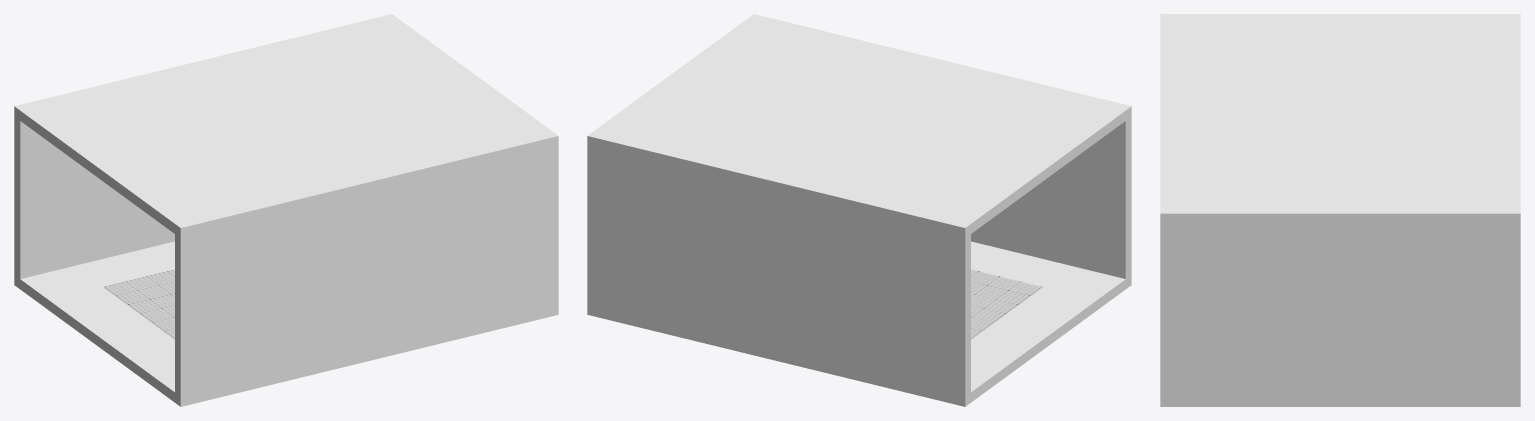
File: cenario-treino (1).fbx
3 renders of one model, left to right at view 1: azimuth 30°, elevation 25°; view 2: azimuth 150°, elevation 25°; view 3: azimuth 270°, elevation 25°, orthographic. The views are drawn at different scales.
Visible parts, largest first — view 1: cenario; view 2: cenario; view 3: cenario.
Boxes of the visible parts, x1=… form: cenario: x1=14, y1=14, x2=558, y2=406; cenario: x1=587, y1=14, x2=1131, y2=406; cenario: x1=1160, y1=14, x2=1520, y2=406.
Bounding box in the file's own units: 4111 × 1859 × 3138.
